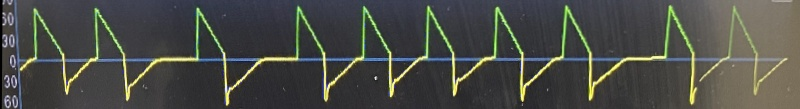normal_flow: (23, 0, 766, 108)
